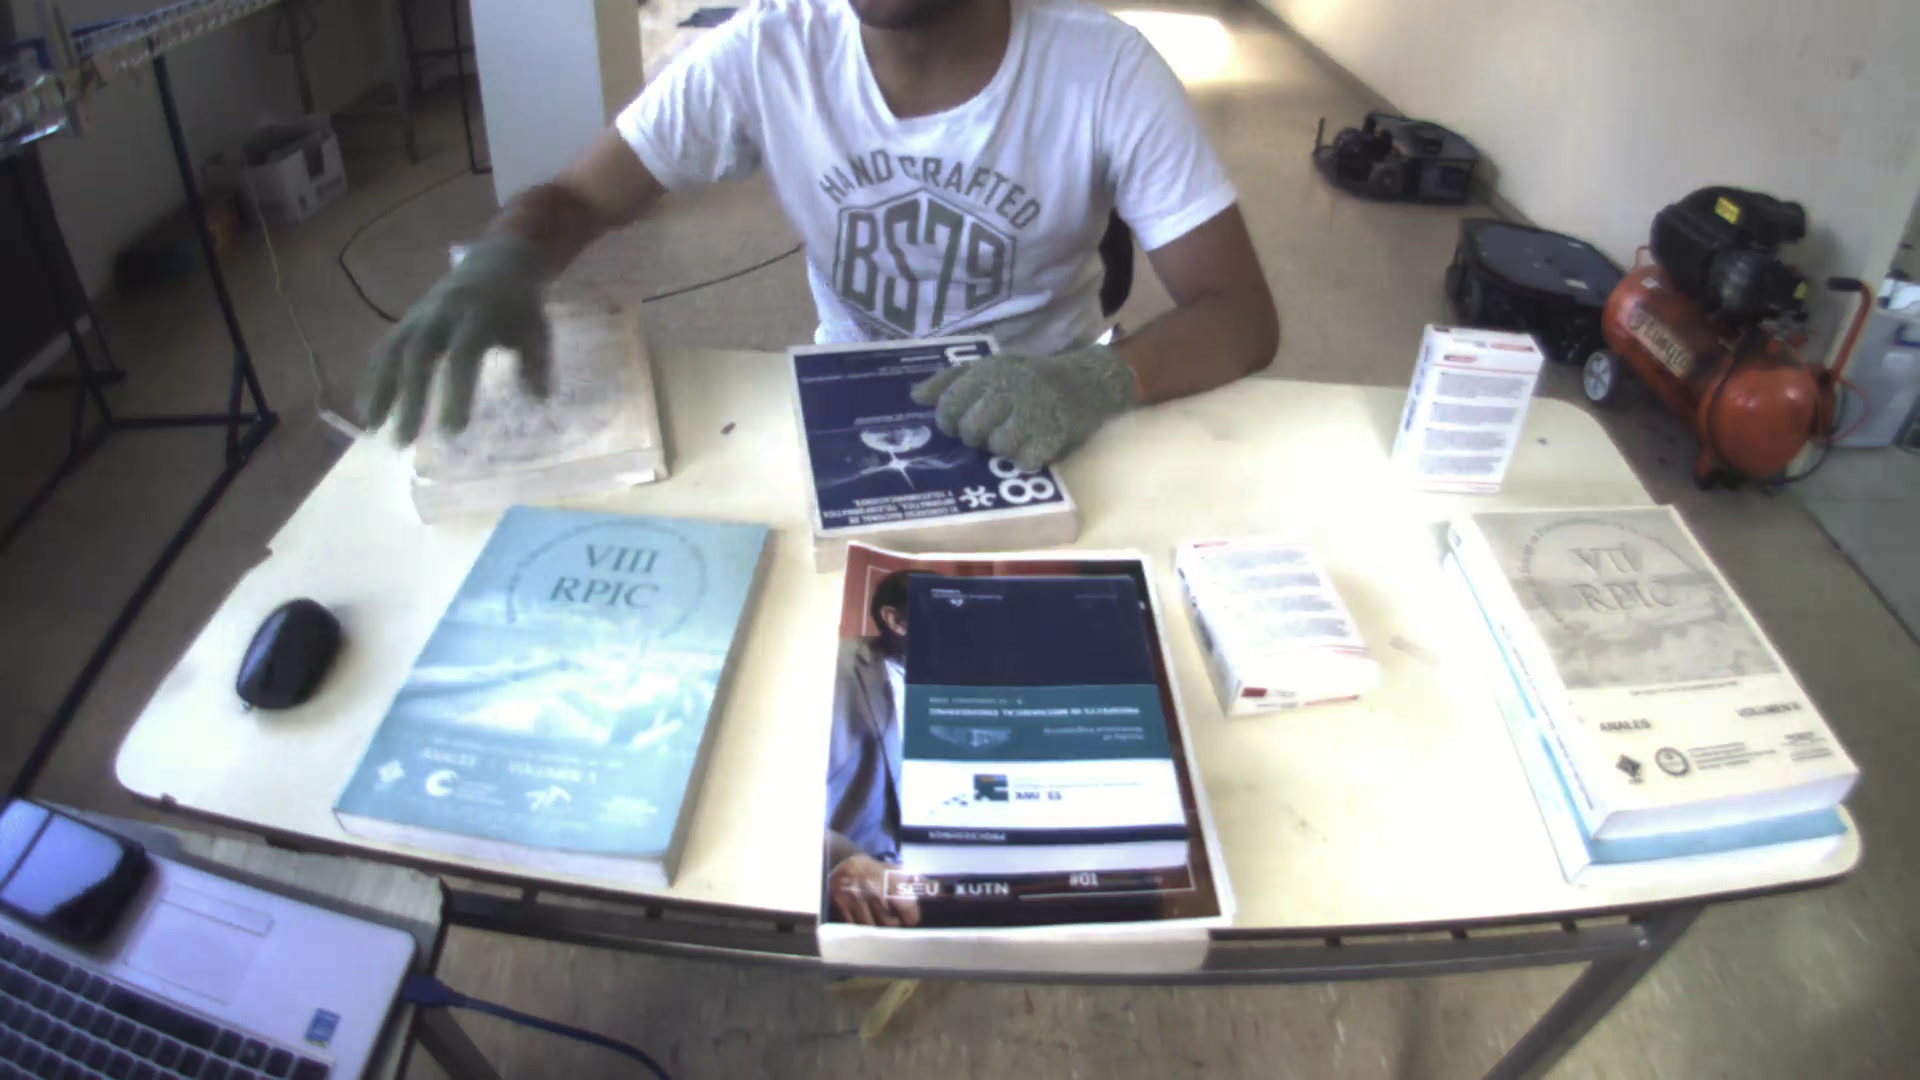hand: (357, 241, 551, 456), (902, 335, 1153, 469)
